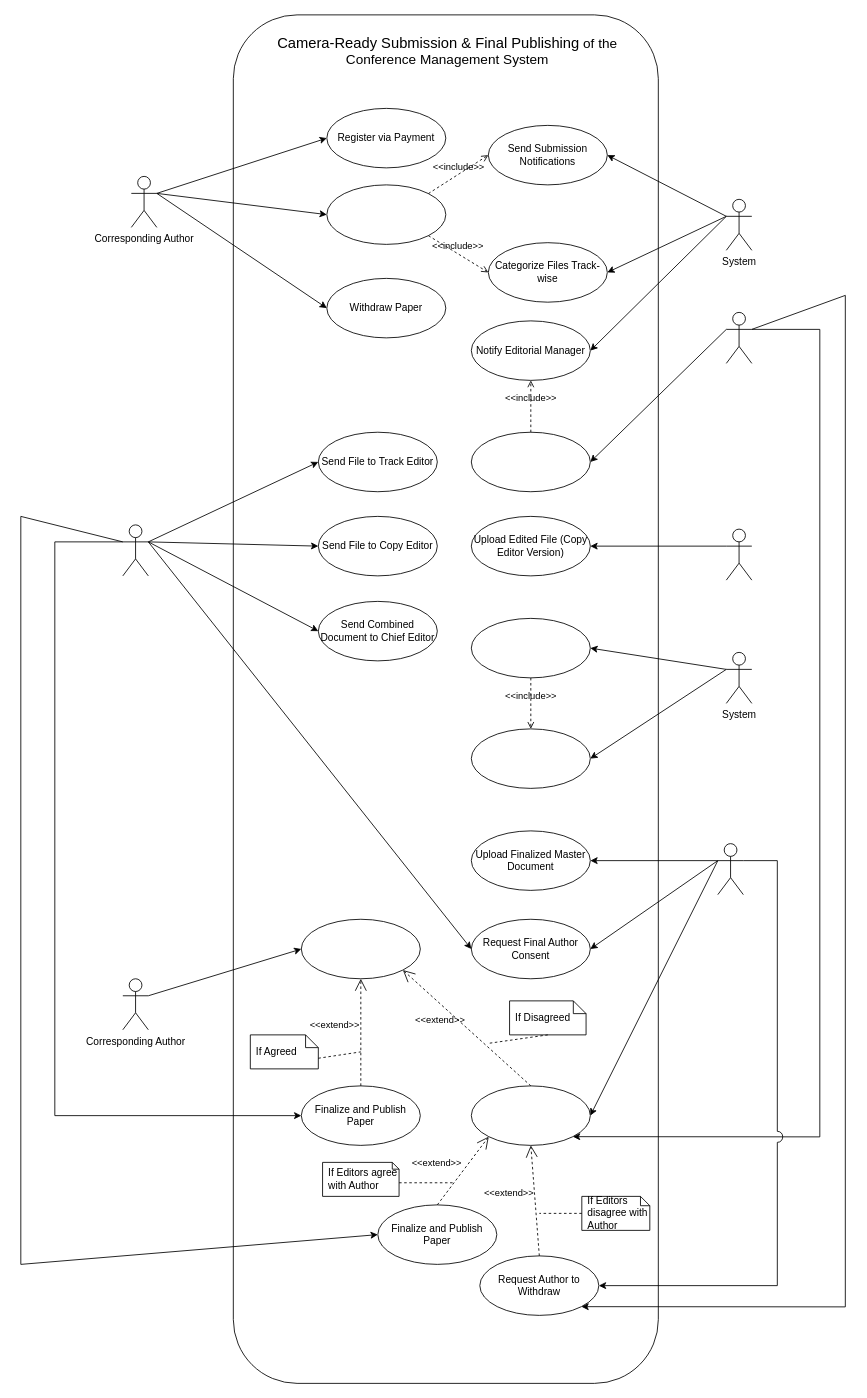
This 867x1398 diagram has some shape labels left out. The centre of each missing label's shape, as x and y in pixels:
"Arbitrate Author Concerns" goes at point 530,1115.
"Chief Editor" goes at point 730,869.
"Combine Track-wise Documents" goes at point 530,648.
"Copy Editor" goes at point 738,554.
"Editorial Manager" goes at point 135,550.
"Notify Chief Editor & Editorial Manager" goes at point 530,758.
"Provide Consent on Edits" goes at point 360,948.
"Track Editor" goes at point 738,337.
"Upload Camera-Ready File" goes at point 386,214.
"Upload Edited File (Track Editor Version)" goes at point 530,461.
